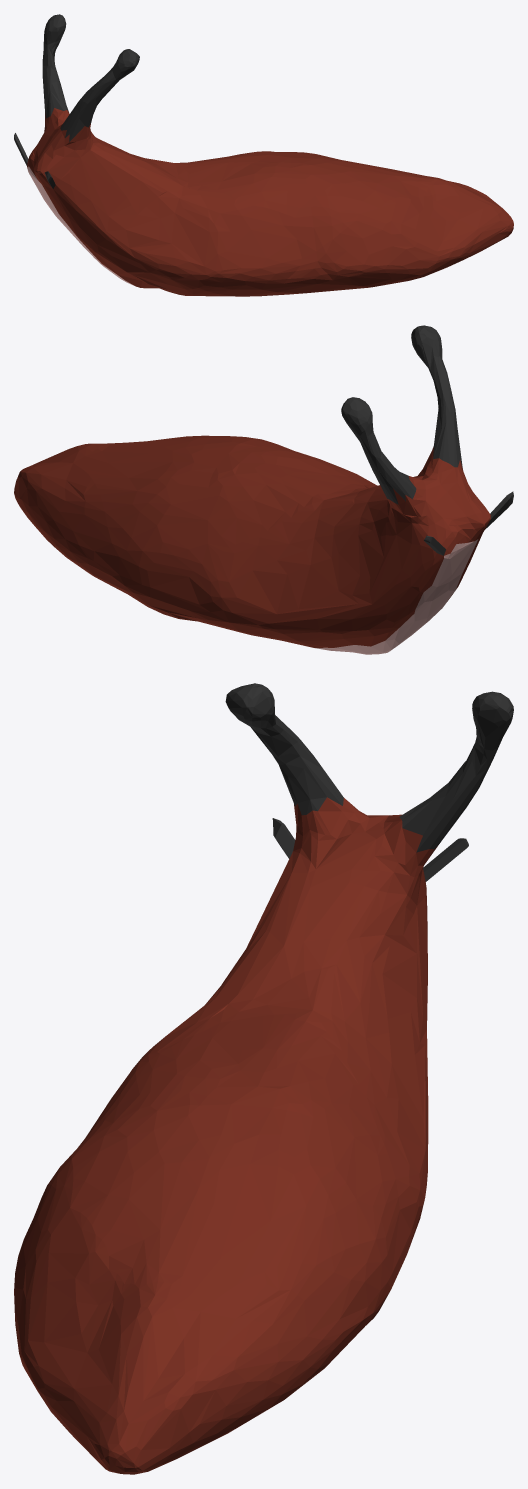
Rendered from e532d4d0-7a90-4efb-bcb1-3f53a24b07ca.glb.
3 views of the same model, one above another, from view 1: azimuth 30°, elevation 25°; view 2: azimuth 150°, elevation 25°; view 3: azimuth 270°, elevation 25° (orthographic). The views are drawn at different scales.
Visible parts, largest first — view 1: Snail001; view 2: Snail001; view 3: Snail001.
Boxes of the visible parts, x1,y1,x2,y2 form: Snail001: (14,14,513,296); Snail001: (14,325,513,654); Snail001: (14,683,513,1474).
Size of the model in its own units: 30.05 by 16.51 by 15.87.
